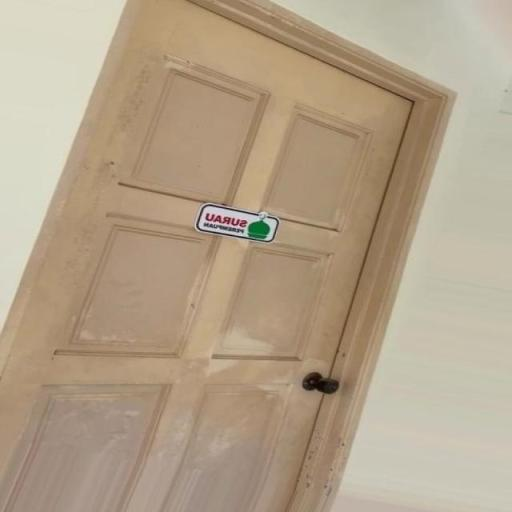door: (1, 0, 452, 511)
